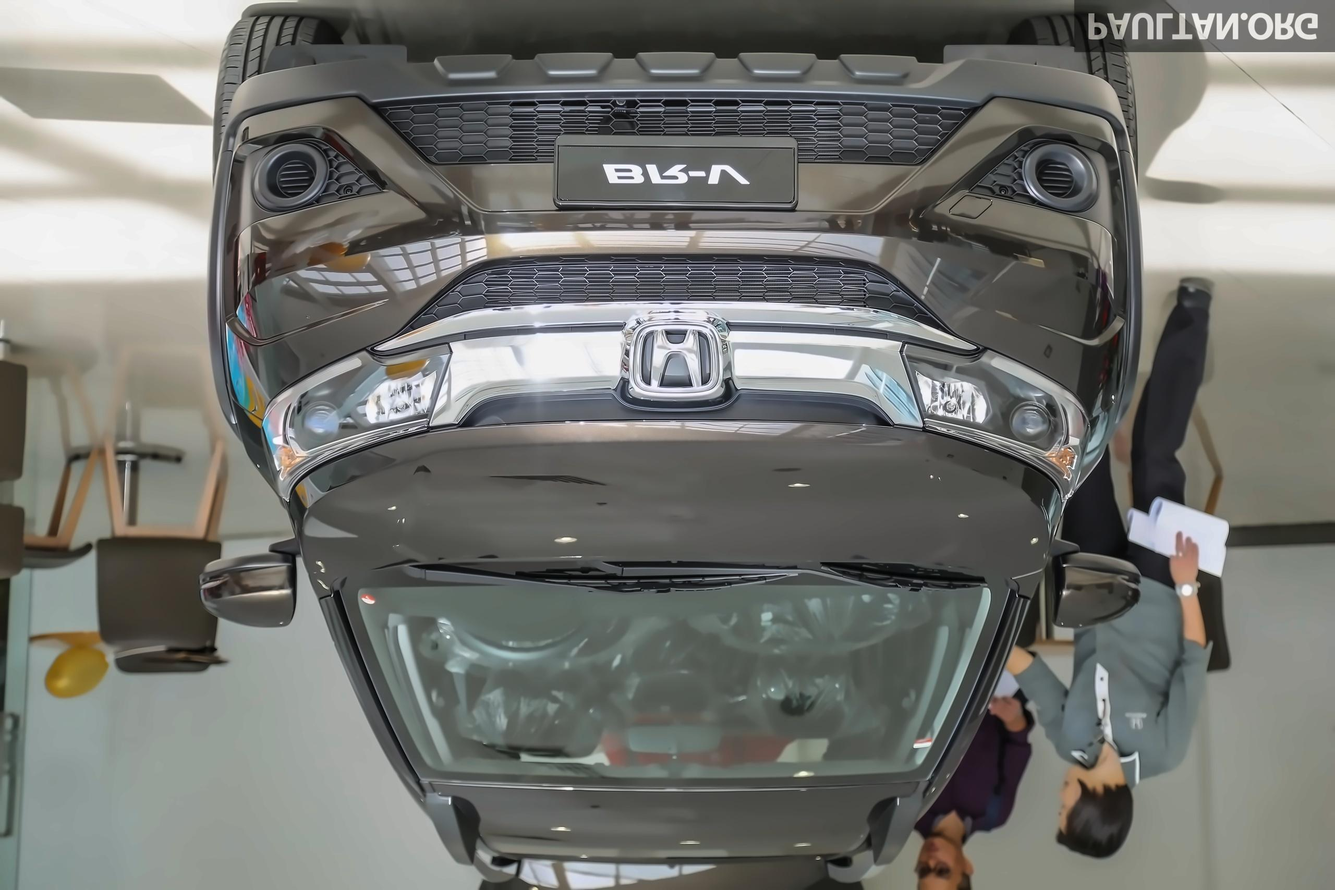Car hood: (284, 416, 1070, 586)
Front bumper: (200, 29, 1141, 341)
Headlight - -L-: (250, 332, 456, 507)
Headlight - -R-: (887, 330, 1098, 505)
Side mirror - -L-: (188, 537, 314, 630)
Side mirror - -R-: (1043, 537, 1149, 652)
